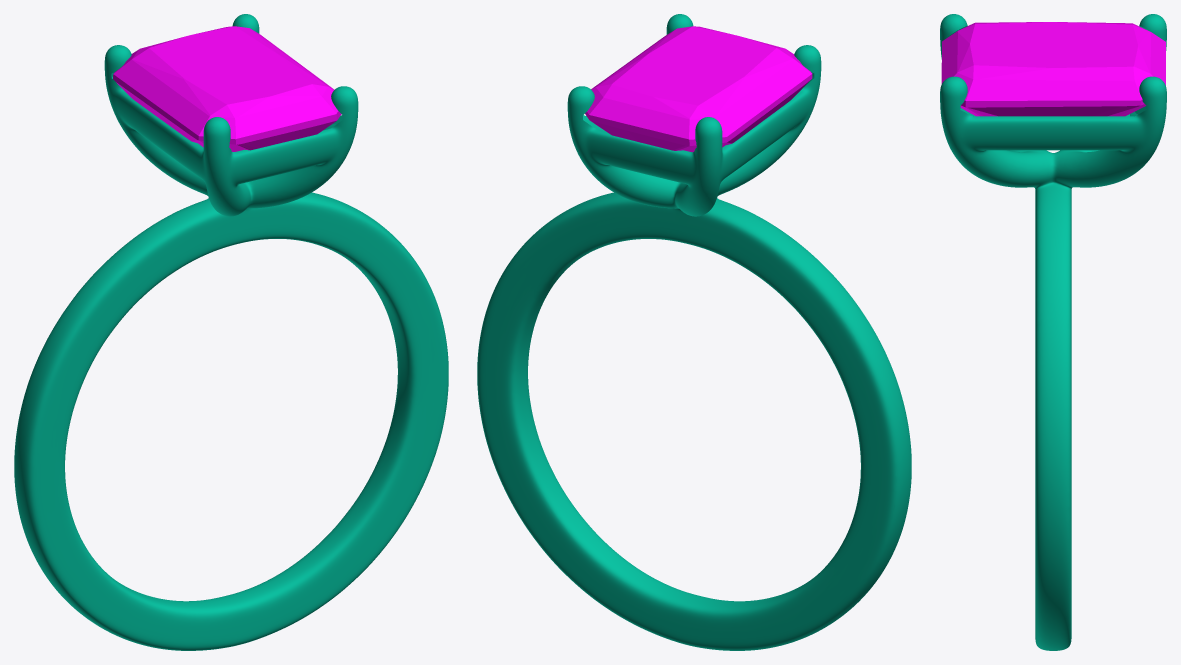
The model's file is BE17651_RA_200ct_RENDER.glb.
3 renders of one model, left to right at view 1: azimuth 30°, elevation 25°; view 2: azimuth 150°, elevation 25°; view 3: azimuth 270°, elevation 25°, orthographic.
Visible parts, largest first — view 1: Metal 01, CS_Diamond_Radiant; view 2: Metal 01, CS_Diamond_Radiant; view 3: Metal 01, CS_Diamond_Radiant.
Boxes of the visible parts, left/top/right/bottom form: Metal 01: left=14, top=14, right=448, bottom=650; CS_Diamond_Radiant: left=113, top=26, right=341, bottom=151; Metal 01: left=477, top=14, right=911, bottom=650; CS_Diamond_Radiant: left=585, top=26, right=812, bottom=152; Metal 01: left=940, top=14, right=1166, bottom=650; CS_Diamond_Radiant: left=941, top=22, right=1165, bottom=116.
Bounding box in the file's own units: 20.49 × 26.55 × 9.37.
